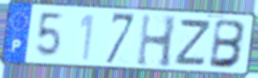1: (79, 14, 95, 62)
5: (34, 12, 64, 60)
7: (105, 11, 138, 66)
B: (207, 18, 248, 70)
H: (135, 12, 179, 70)
Z: (172, 19, 214, 68)
